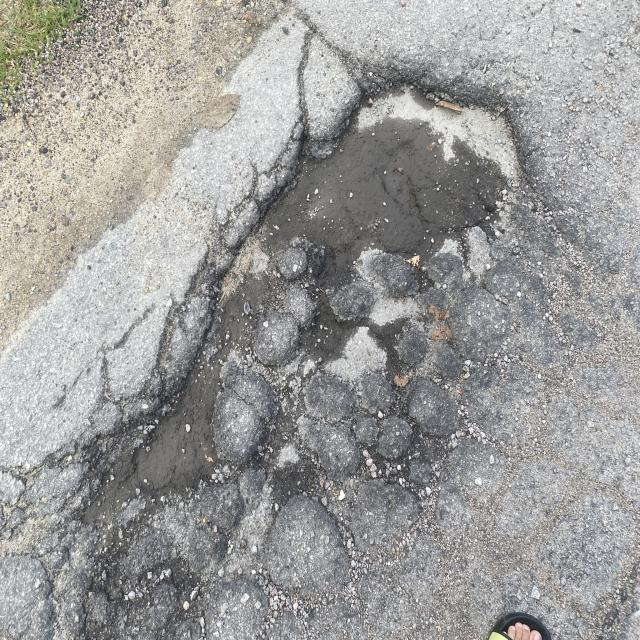Pothole: (71, 57, 630, 640)
